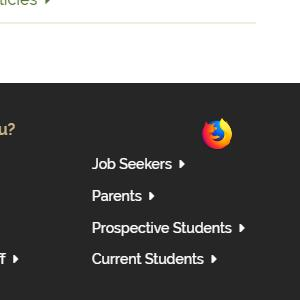firefox: (202, 117, 232, 149)
